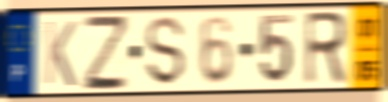5: (256, 13, 298, 86)
6: (197, 14, 234, 88)
K: (42, 18, 79, 89)
R: (301, 9, 349, 88)
S: (143, 15, 187, 89)
Z: (81, 13, 130, 94)
